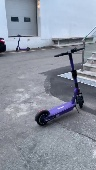beam: (34, 46, 89, 126), (12, 32, 33, 53)
